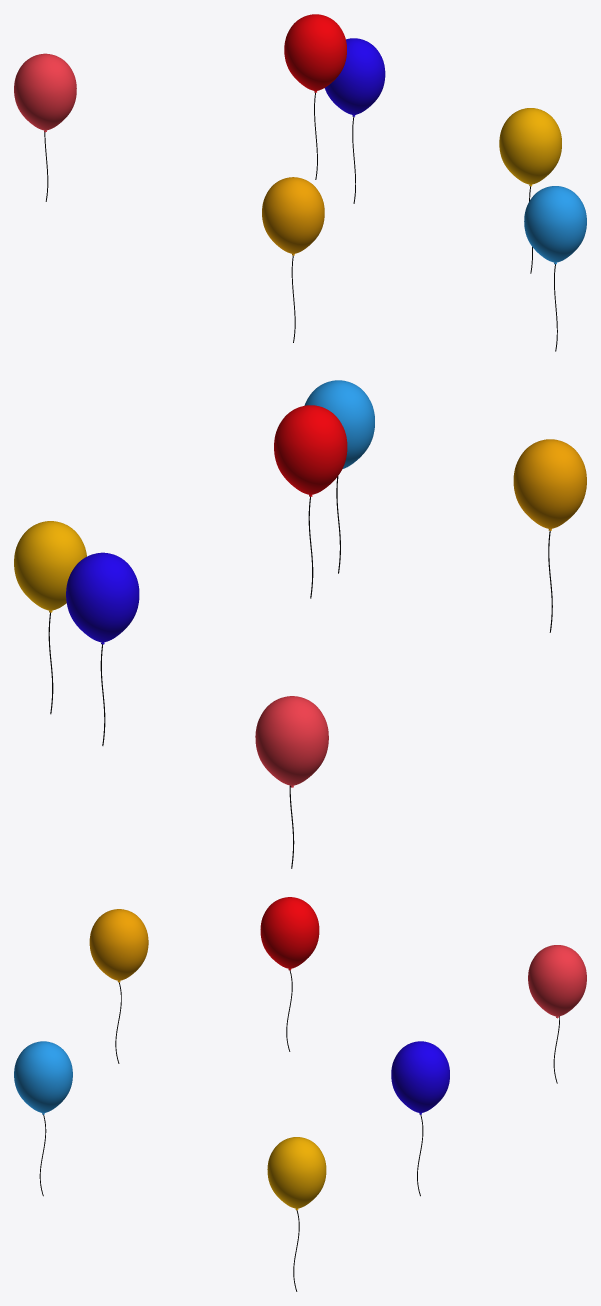
The model's file is balloon.glb.
3 views of the same model, one above another, from view 1: azimuth 30°, elevation 25°; view 2: azimuth 150°, elevation 25°; view 3: azimuth 270°, elevation 25° (orthographic). The views are drawn at different scales.
Parts seen in each view (by area): view 1: Sphere.004, Sphere.003, Sphere.001, Sphere, Sphere.006, Sphere.002; view 2: Sphere.001, Sphere.004, Sphere, Sphere.002, Sphere.006, Sphere.003; view 3: Sphere.003, Sphere, Sphere.001, Sphere.006, Sphere.002, Sphere.004.
Part boxes in pixels (left/top/right/bottom): Sphere.004: left=14, top=53, right=76, bottom=132; Sphere.003: left=524, top=186, right=586, bottom=264; Sphere.001: left=262, top=177, right=324, bottom=255; Sphere: left=284, top=14, right=346, bottom=92; Sphere.006: left=499, top=108, right=561, bottom=186; Sphere.002: left=324, top=38, right=385, bottom=116; Sphere.001: left=513, top=439, right=586, bottom=530; Sphere.004: left=255, top=696, right=328, bottom=787; Sphere: left=274, top=405, right=347, bottom=496; Sphere.002: left=66, top=552, right=139, bottom=644; Sphere.006: left=14, top=521, right=86, bottom=612; Sphere.003: left=304, top=380, right=374, bottom=468; Sphere.003: left=14, top=1041, right=72, bottom=1114; Sphere: left=260, top=897, right=319, bottom=970; Sphere.001: left=89, top=909, right=148, bottom=982; Sphere.006: left=267, top=1137, right=326, bottom=1210; Sphere.002: left=391, top=1041, right=449, bottom=1114; Sphere.004: left=528, top=945, right=586, bottom=1018.
Bounding box in the file's own units: 19.1 × 14.27 × 25.32.
